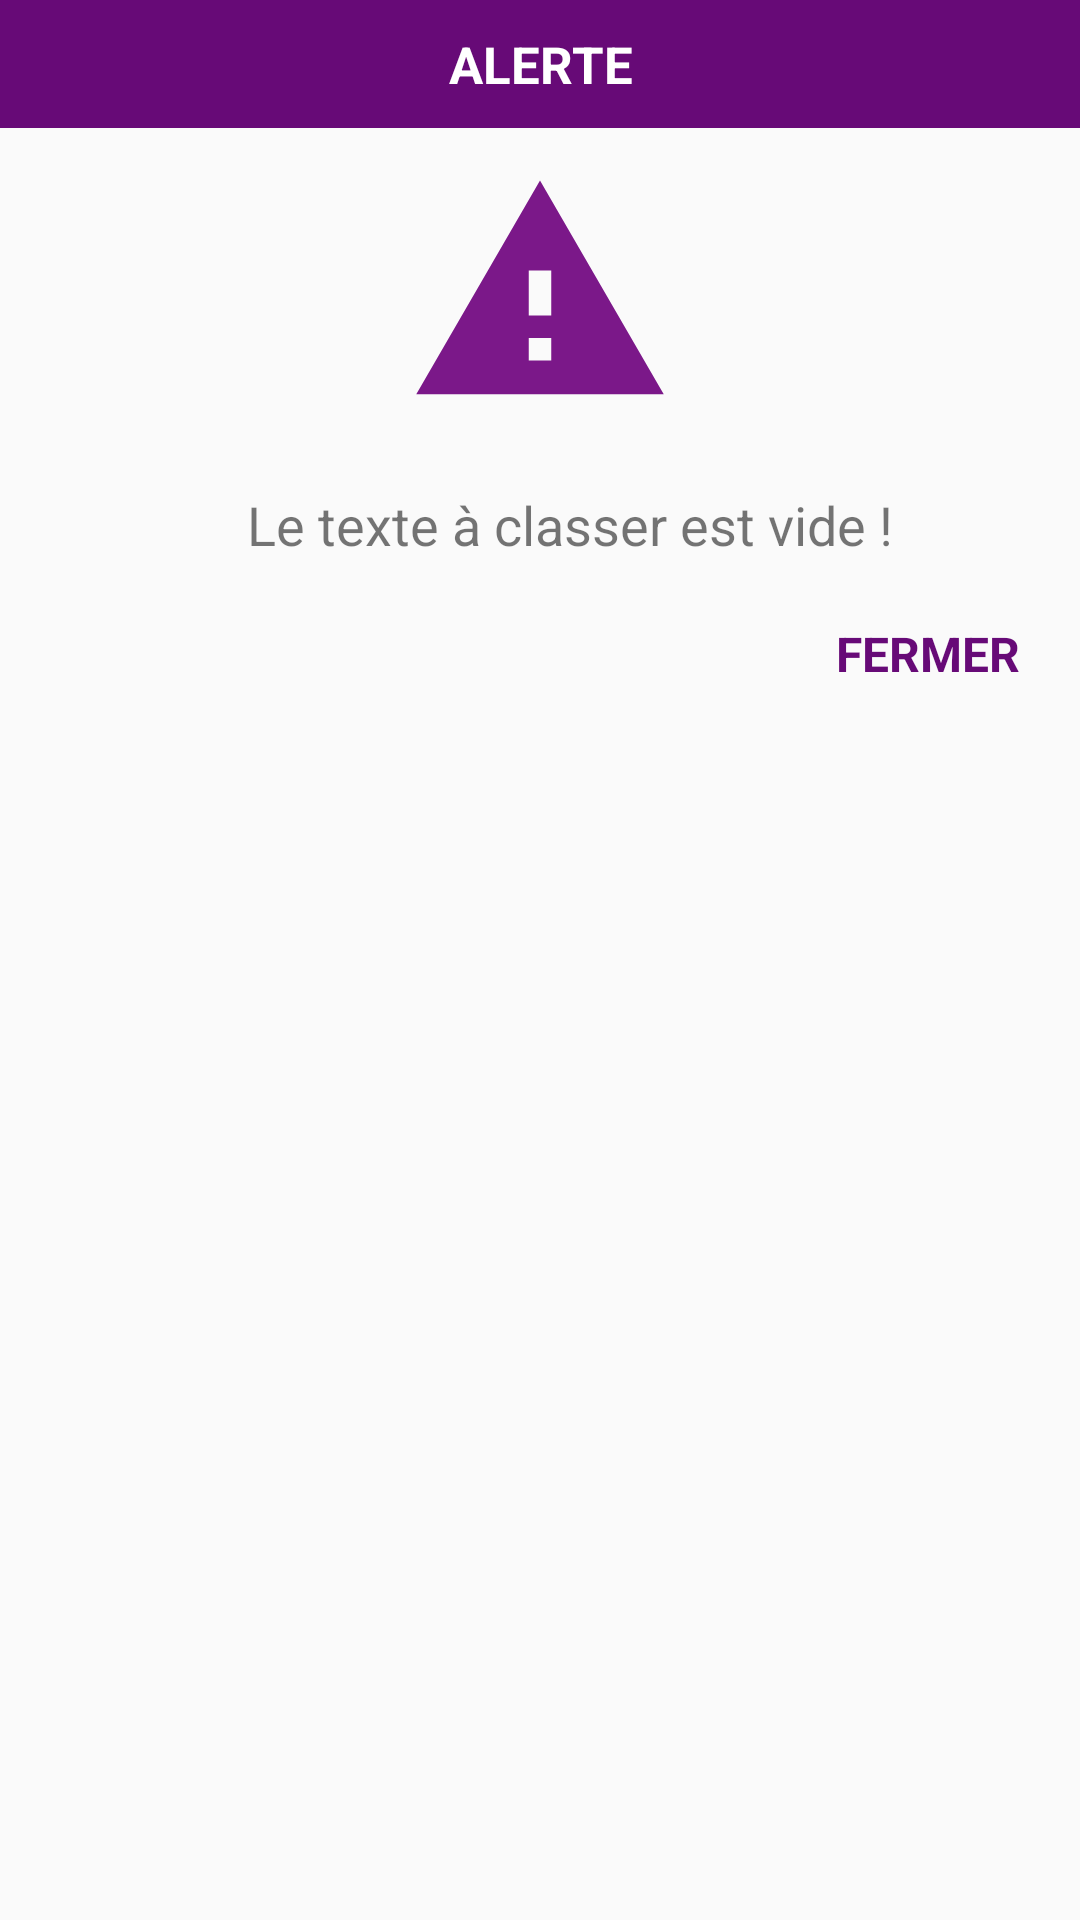

Screen size 1080px x 1920px. Icon name, then its center in pixels as (x,y):
warning: (540,288)
